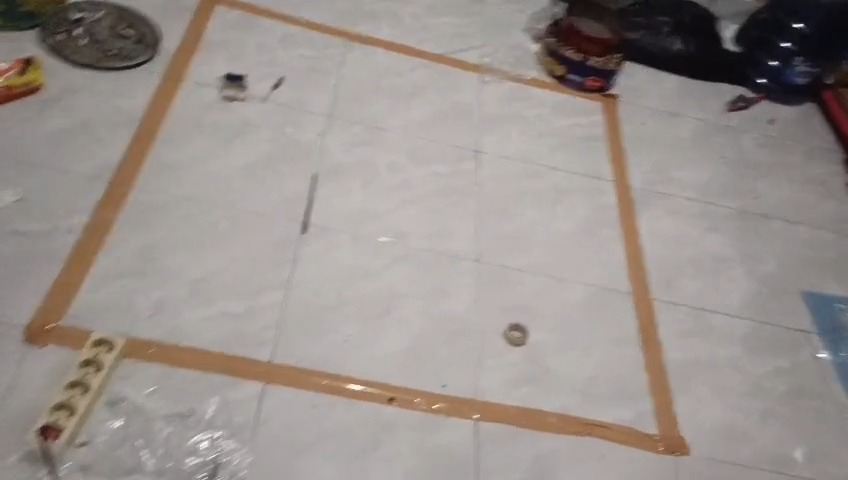floor marking: (24, 0, 689, 455)
